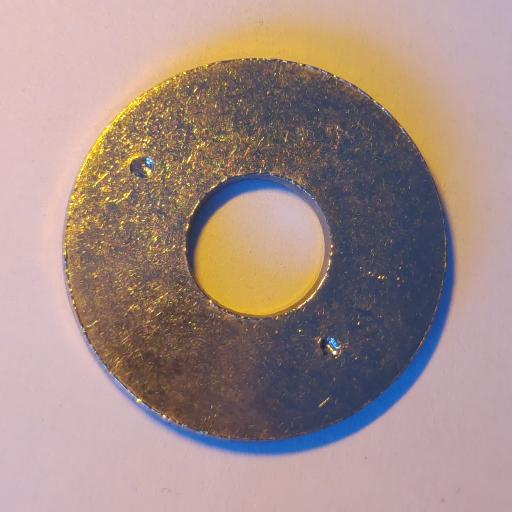circular_cavity: (316, 333, 348, 362), (129, 155, 154, 180)
